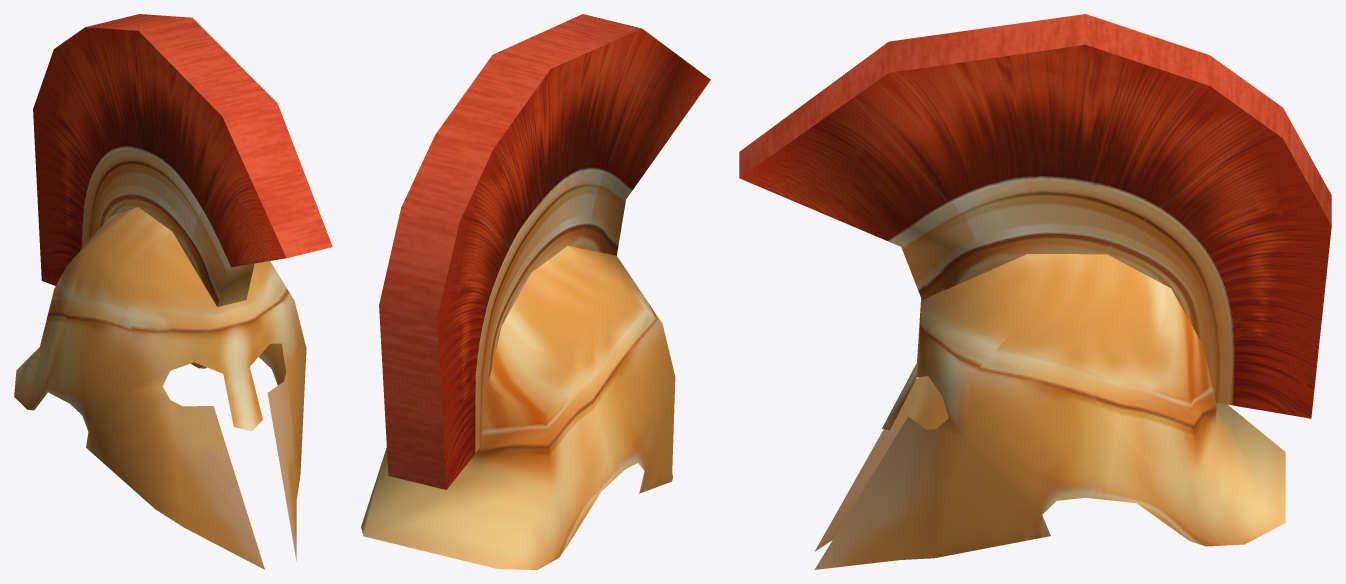
Rendered from sparta.FBX.
The picture shows the model from 3 angles, left to right: view 1: azimuth 30°, elevation 25°; view 2: azimuth 150°, elevation 25°; view 3: azimuth 270°, elevation 25°; orthographic projection. The views are drawn at different scales.
Visible parts, largest first — view 1: sparta; view 2: sparta; view 3: sparta.
Boxes of the visible parts, x1,y1,x2,y2 form: sparta: [14, 14, 332, 569]; sparta: [361, 14, 710, 569]; sparta: [739, 14, 1331, 569].
Bounding box in the file's own units: 19.08 × 43.93 × 44.33.
